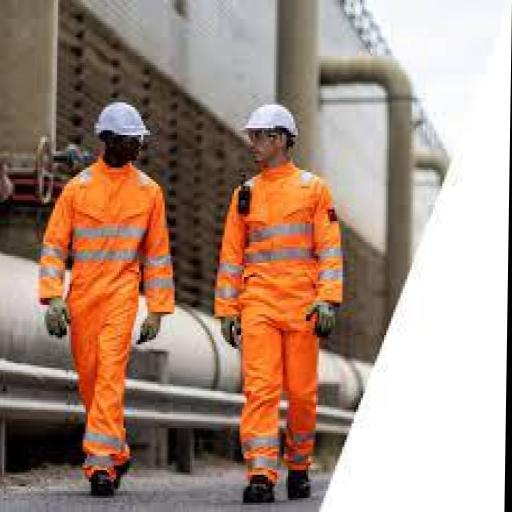safety_boots: (228, 468, 277, 511), (82, 468, 121, 502), (283, 467, 320, 502)
